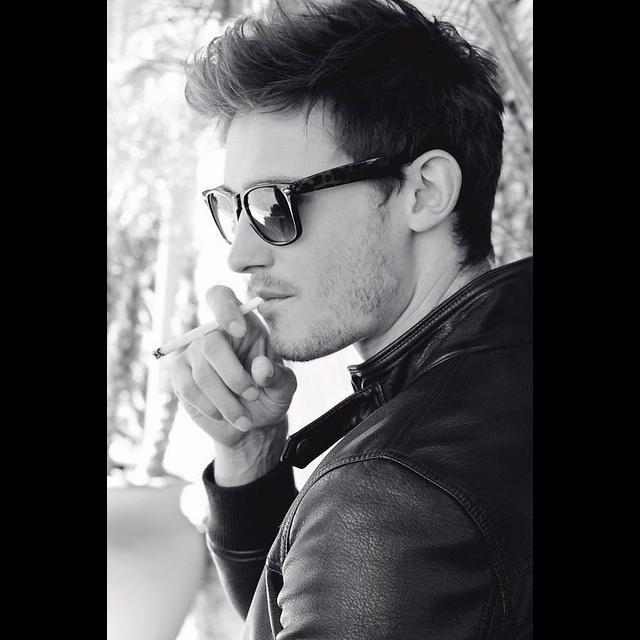rokok: (144, 288, 260, 366)
